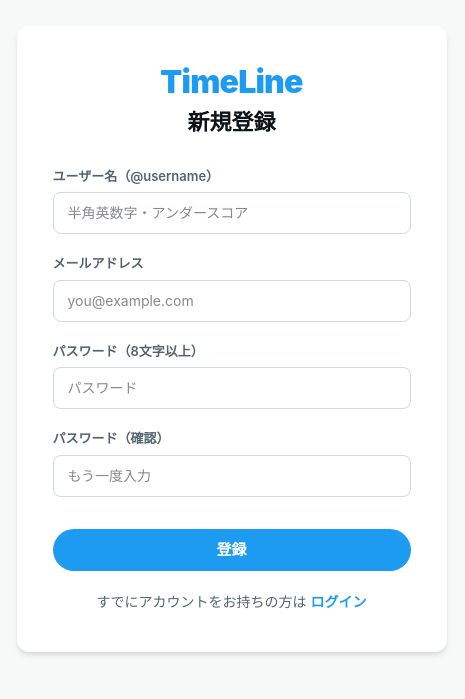
Test: RegisterPage › 空フォーム送信でバリデーションエラーが表示される
Click the button "登録" at (232, 550), box [52,529,410,571]
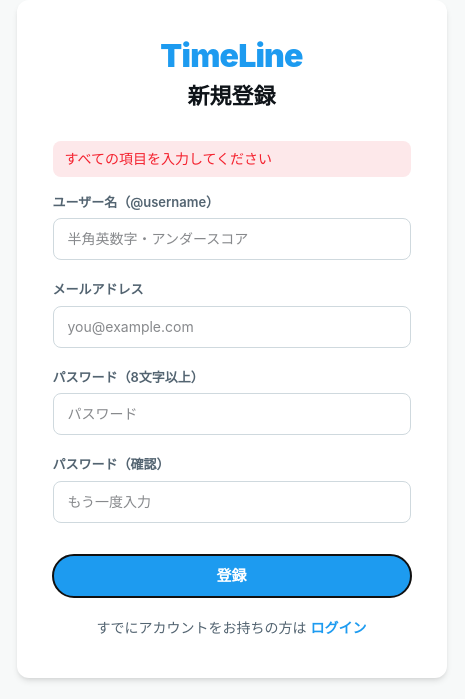
Expected: the text "すべての項目を入力してください" is shown, [52,141,410,177]
